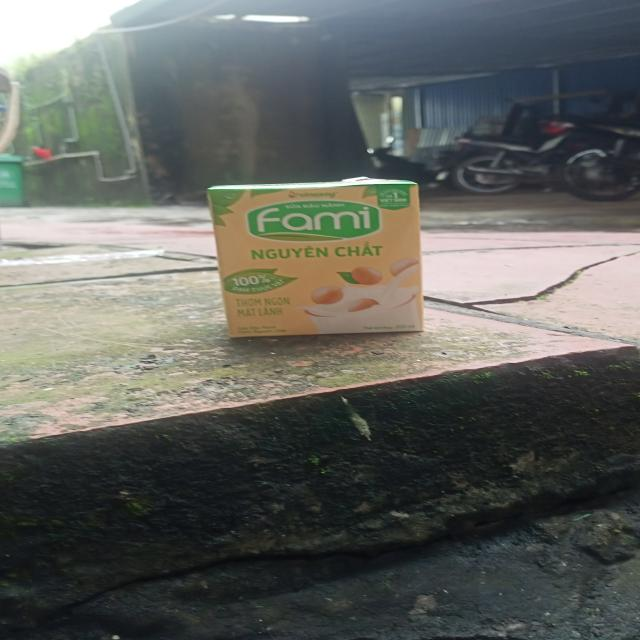Fami: (210, 182, 435, 340)
